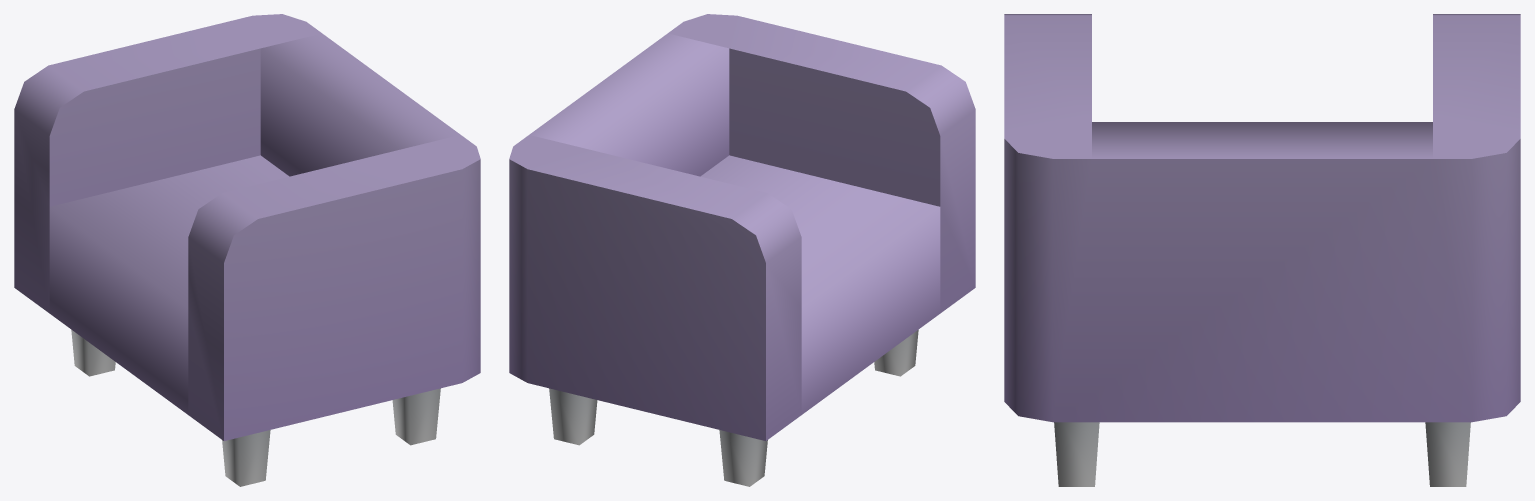
File: manhattan-chair.glb
The picture shows the model from 3 angles, left to right: view 1: azimuth 30°, elevation 25°; view 2: azimuth 150°, elevation 25°; view 3: azimuth 270°, elevation 25°; orthographic projection. The views are drawn at different scales.
Parts seen in each view (by area): view 1: manhattan-chair; view 2: manhattan-chair; view 3: manhattan-chair.
Part boxes in pixels (<box>): manhattan-chair: <box>14,14,480,486</box>; manhattan-chair: <box>509,14,975,486</box>; manhattan-chair: <box>1004,14,1520,486</box>.
Bounding box in the file's own units: 0.672 × 0.672 × 0.896.
